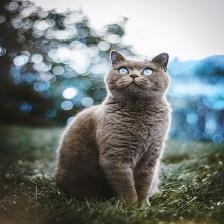kedo: (59, 51, 170, 210)
